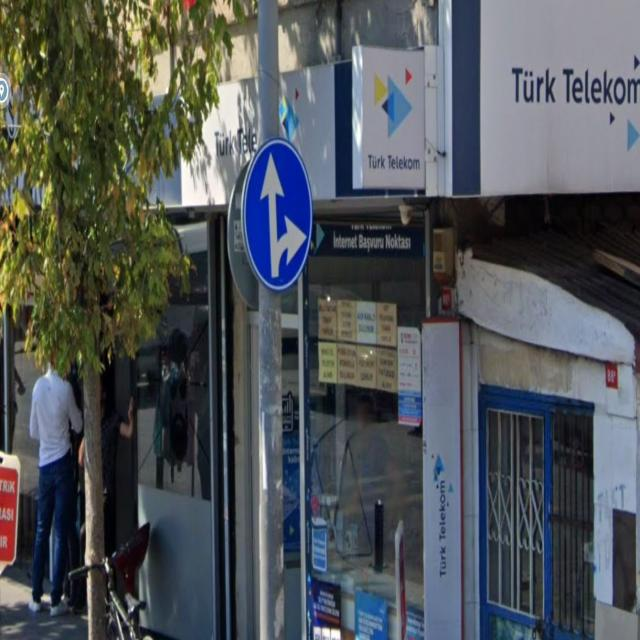ilerisag: (241, 137, 313, 290)
